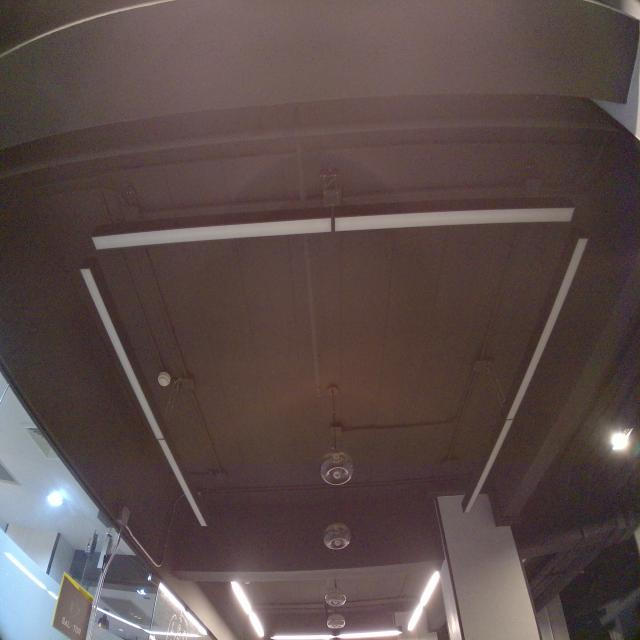lamp2_off: (455, 234, 598, 523), (71, 267, 215, 534), (80, 198, 583, 259)
